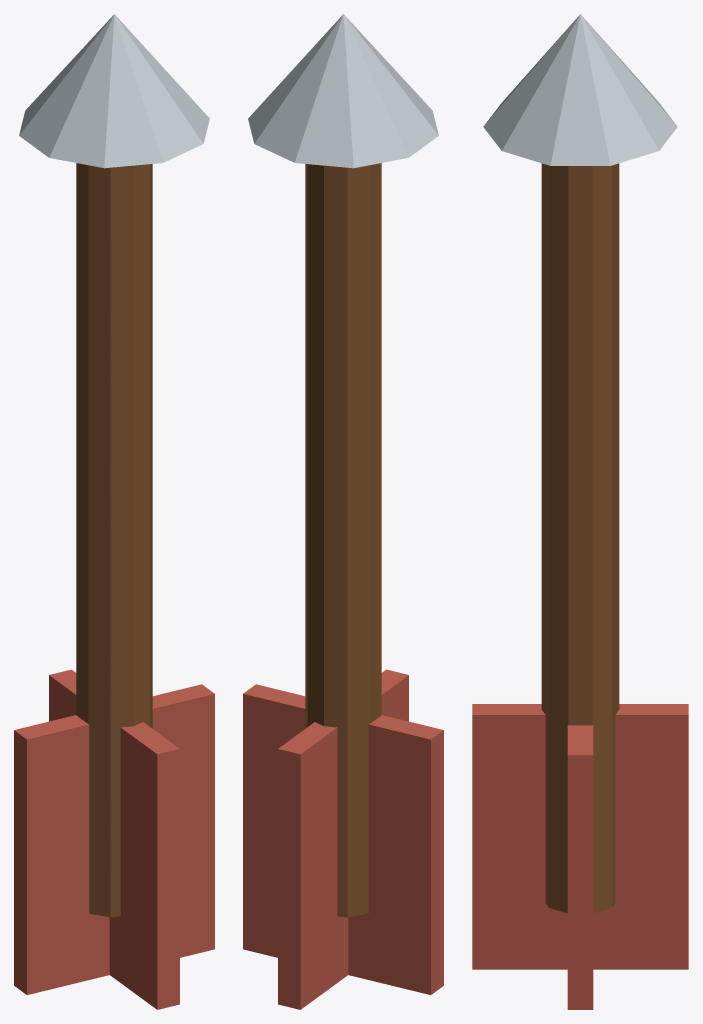
File: dart.glb
3 renders of one model, left to right at view 1: azimuth 30°, elevation 25°; view 2: azimuth 150°, elevation 25°; view 3: azimuth 270°, elevation 25°, orthographic.
Parts seen in each view (by area): view 1: shaft, fletching_x, fletching_y, point; view 2: shaft, fletching_x, fletching_y, point; view 3: shaft, fletching_y, point, fletching_x.
Part boxes in pixels (box(x1,y1,x2,y2)): shaft: box(76, 163, 152, 917); fletching_x: box(14, 684, 214, 994); fletching_y: box(49, 669, 179, 1009); point: box(19, 14, 209, 168); shaft: box(305, 163, 381, 917); fletching_x: box(243, 684, 443, 994); fletching_y: box(278, 669, 408, 1009); point: box(248, 14, 438, 168); shaft: box(541, 163, 619, 913); fletching_y: box(472, 704, 688, 969); point: box(483, 14, 677, 165); fletching_x: box(567, 725, 593, 1009).
Bounding box in the file's own units: 0.1 × 0.485 × 0.1.
